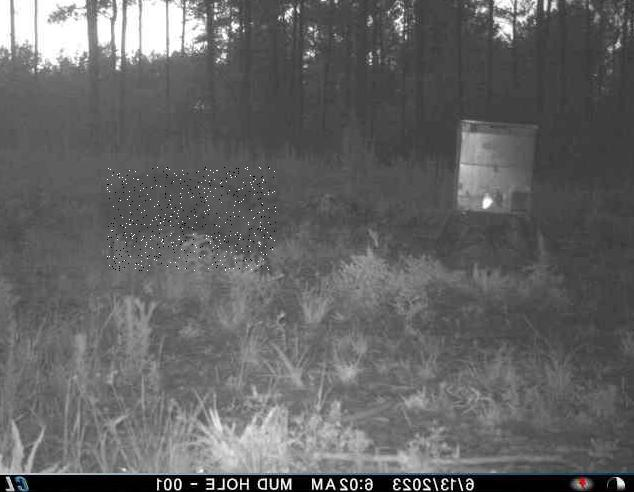Hog: (107, 167, 276, 271)
